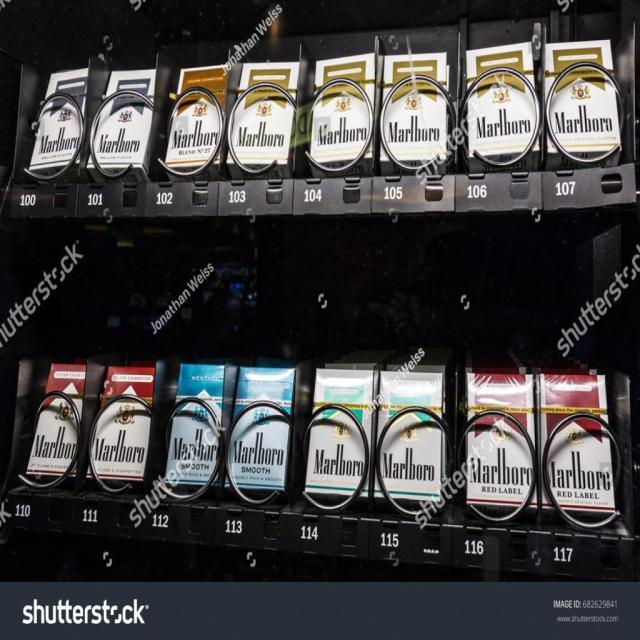smoking: (455, 40, 546, 176), (463, 370, 538, 518), (545, 38, 625, 170), (309, 50, 376, 176), (381, 51, 448, 175), (545, 416, 617, 520), (304, 407, 370, 507), (379, 411, 446, 504), (230, 85, 296, 177), (225, 404, 293, 493), (24, 394, 85, 486), (164, 400, 223, 494), (89, 397, 152, 485), (540, 372, 610, 451), (163, 87, 225, 176), (312, 365, 376, 450), (92, 94, 152, 181), (28, 93, 86, 179), (378, 370, 444, 442), (234, 367, 295, 418), (175, 363, 224, 424), (176, 60, 228, 110), (239, 56, 300, 97), (43, 361, 85, 416), (100, 367, 155, 406), (45, 66, 88, 113), (106, 63, 156, 100)
